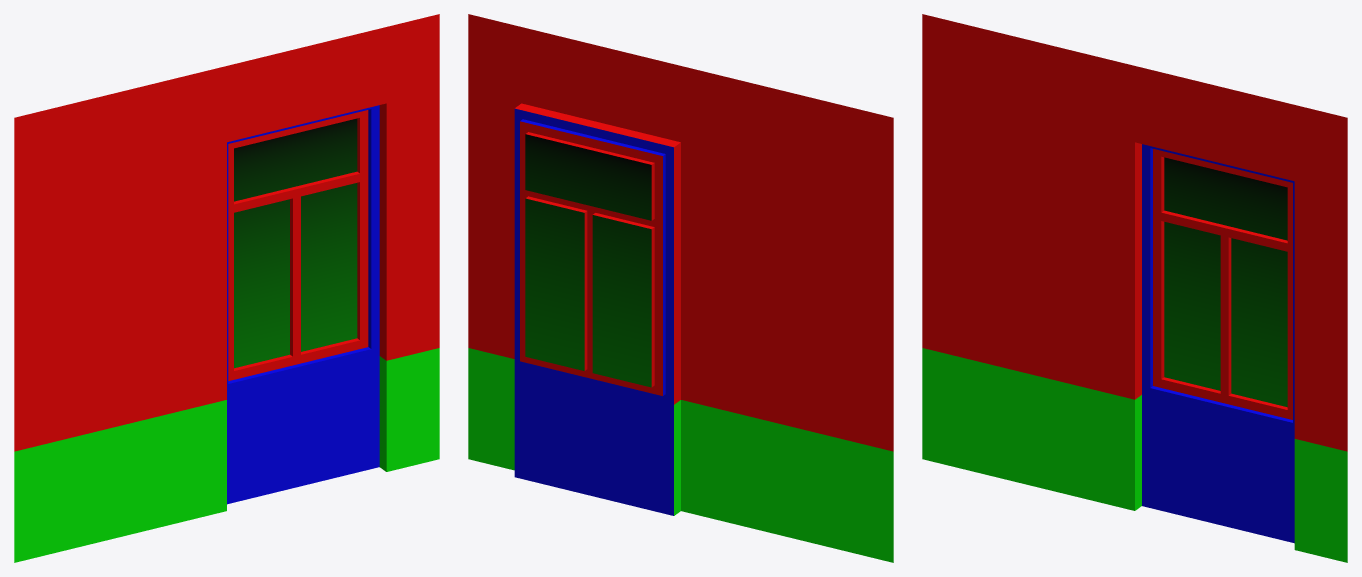
Rendered from Wall_DoorSingle.FBX.
The picture shows the model from 3 angles, left to right: view 1: azimuth 30°, elevation 25°; view 2: azimuth 150°, elevation 25°; view 3: azimuth 330°, elevation 25°; orthographic projection.
Parts seen in each view (by area): view 1: Wall_DoorSingle; view 2: Wall_DoorSingle; view 3: Wall_DoorSingle.
Boxes of the visible parts, x1,y1,x2,y2 form: Wall_DoorSingle: (14,14,439,562); Wall_DoorSingle: (468,14,893,562); Wall_DoorSingle: (922,14,1347,562).
Size of the model in its own units: 2.56 by 2.56 by 0.1318.
